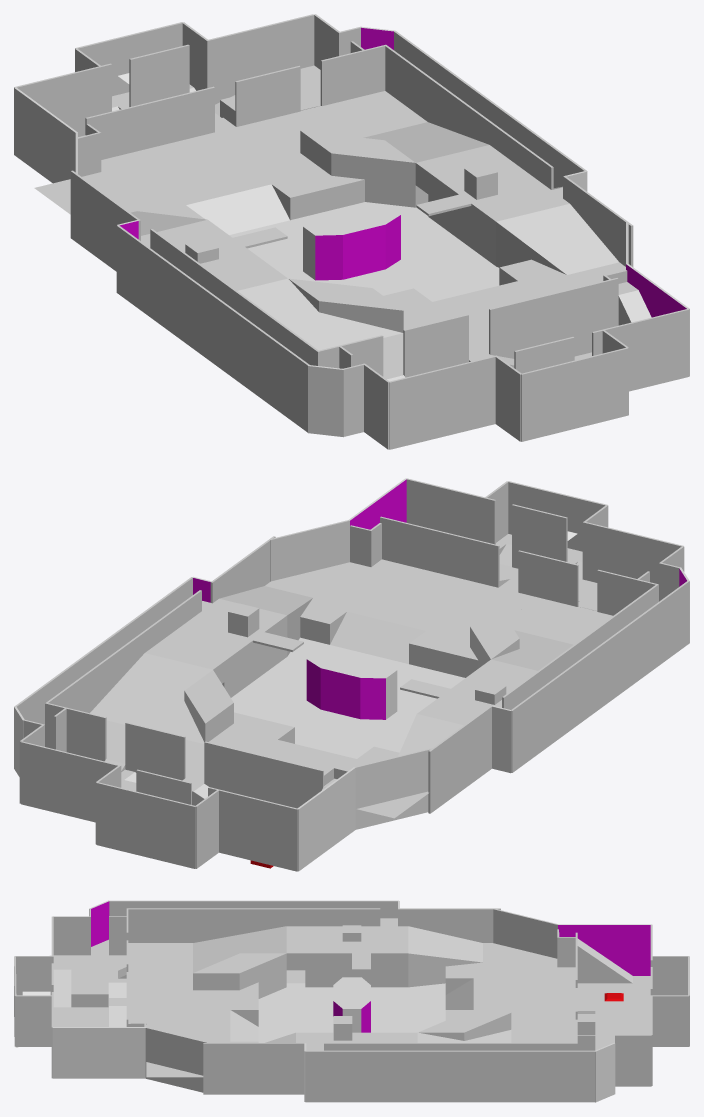
File: NewMap1.glb
The picture shows the model from 3 angles, top to bottom: view 1: azimuth 30°, elevation 25°; view 2: azimuth 150°, elevation 25°; view 3: azimuth 270°, elevation 25°; orthographic projection. The views are drawn at different scales.
Parts seen in each view (by area): view 1: Cube.034, Cube.010, Cube.040, Cube.035, Plane.004, Cube.065, Cube.057, Cube.058, Cube.059, Cube.070, Cube.032, Cube.012 (+27 smaller); view 2: Cube.034, Cube.059, Cube.040, Cube.035, Plane.004, Cube.002, Cube.010, Cube.070, Cube.012, Cube.058, Cube.021, Cube.011 (+24 smaller); view 3: Cube.035, Cube.029, Cube.010, Plane.004, Cube.059, Cube.038, Cube.033, Cube.063, Cube.034, Cube.007, Plane, Cube.006 (+23 smaller).
Boxes of the visible parts, x1,y1,x2,y2 form: Cube.034: (258, 91, 618, 274); Cube.010: (34, 122, 364, 234); Cube.040: (116, 225, 309, 432); Cube.035: (131, 211, 403, 379); Plane.004: (229, 202, 499, 301); Cube.065: (521, 348, 628, 441); Cube.057: (389, 355, 496, 449); Cube.058: (489, 278, 618, 358); Cube.059: (383, 259, 625, 359); Cube.070: (303, 205, 400, 280); Cube.032: (385, 45, 553, 189); Cube.012: (206, 14, 314, 104); Cube.034: (90, 586, 312, 763); Cube.059: (265, 559, 537, 677); Cube.040: (511, 581, 689, 772); Cube.035: (398, 597, 612, 756); Plane.004: (231, 637, 465, 758); Cube.002: (96, 782, 195, 868); Cube.010: (185, 712, 428, 818); Cube.070: (306, 650, 397, 719); Cube.012: (21, 741, 121, 822); Cube.058: (380, 516, 499, 587); Cube.021: (208, 787, 297, 871); Cube.011: (204, 741, 323, 808); Cube.035: (128, 925, 482, 998); Cube.029: (305, 1050, 595, 1102); Cube.010: (445, 943, 575, 1029); Plane.004: (258, 983, 445, 1042); Cube.059: (128, 982, 258, 1077); Cube.038: (128, 908, 380, 942); Cube.033: (203, 1043, 305, 1094); Cube.063: (52, 1027, 146, 1078); Cube.034: (265, 1012, 575, 1050); Cube.007: (53, 955, 126, 1007); Plane: (577, 976, 650, 1034); Cube.006: (558, 924, 651, 975).
Size of the model in its own units: 38.26 by 8.2 by 72.23.
